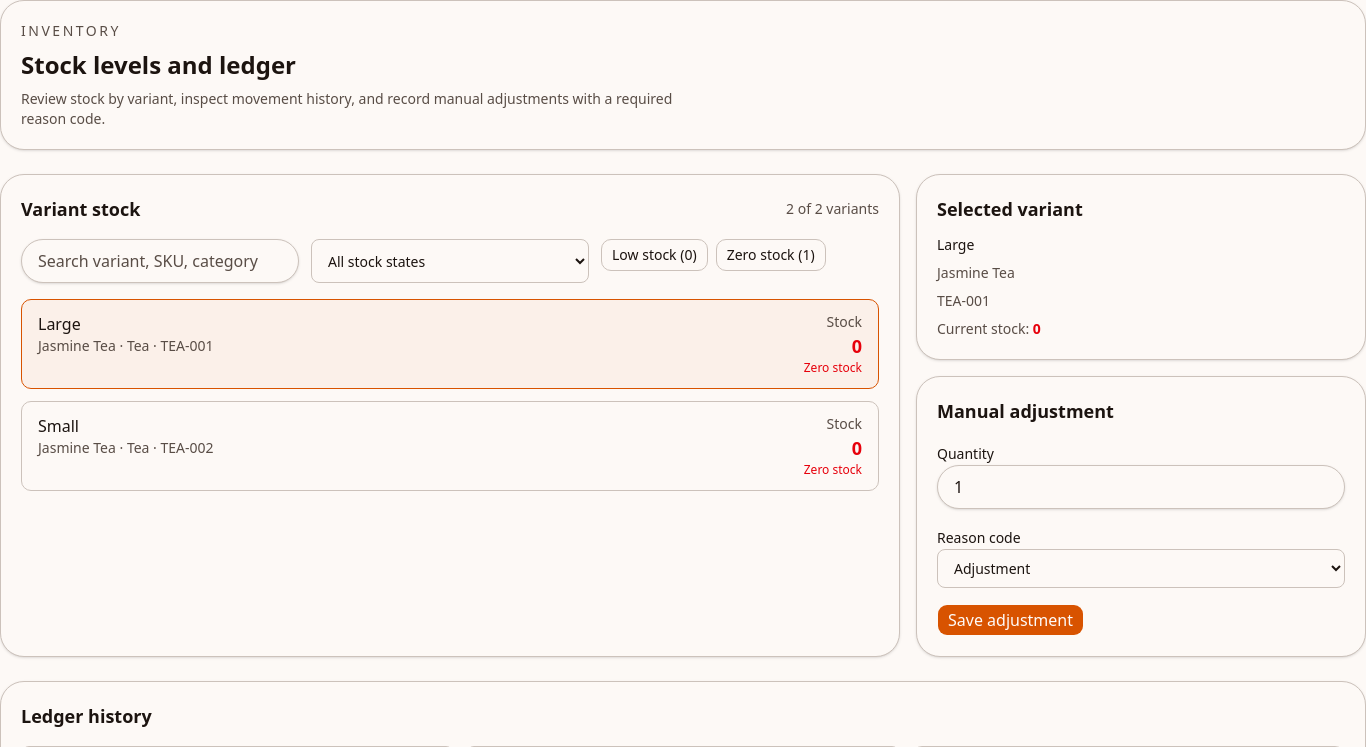
Scenario: InventoryPage › keeps filter-empty distinct from true empty
The image size is (1366, 747).
Check: the text "Current stock:" is shown, box [937, 319, 1029, 338]
Type "missing" into the field named "Search variants" at x=160, y=261, box [21, 239, 299, 283]
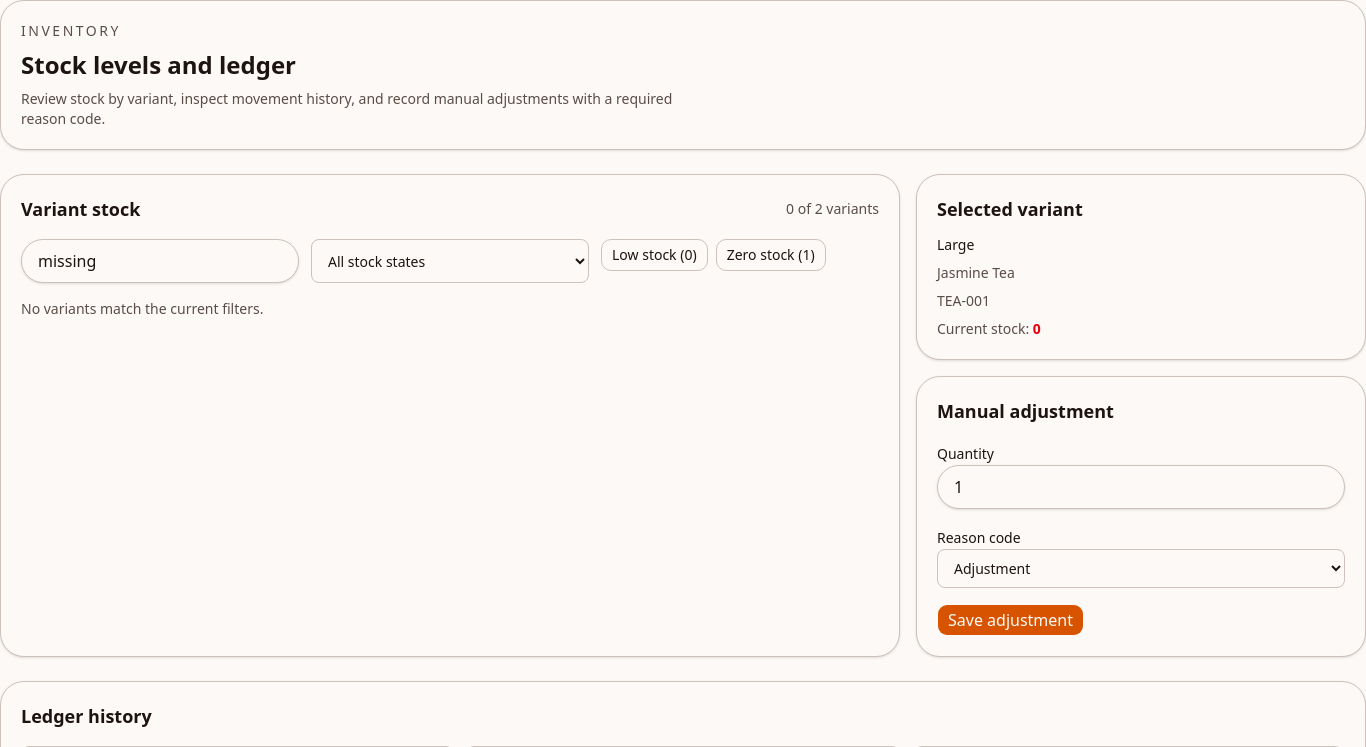
Check: the text "No variants match the current filters." is shown, box [21, 299, 263, 318]
